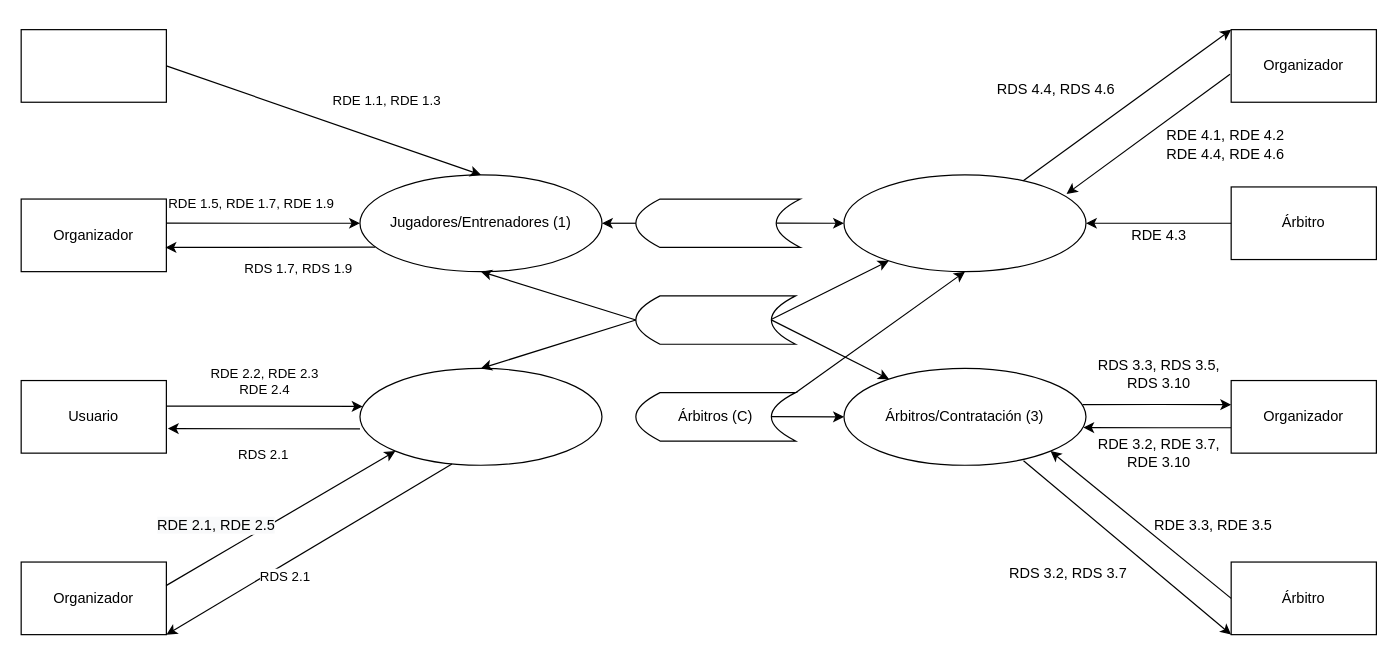
The diagram is 1398 pixels wide and 666 high, and some of its shapes have lost their labels. The shapes that lost their labels are listed below. From the top down, each one's centre as x and y in pixels, then its label:
At (93,65): "Jugador".
At (717,222): "Parejas (B)".
At (964,223): "Pistas/Partidos (4)".
At (715,319): "Ediciones (A)".
At (480,416): "Usuarios / Entradas (2)".
